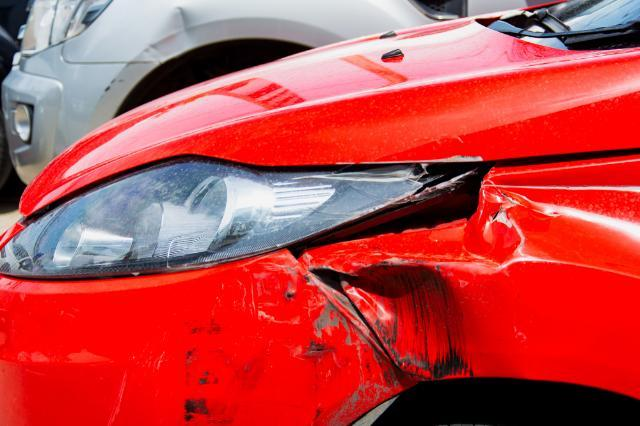dent: (308, 180, 528, 379), (147, 6, 193, 59)
lamp broken: (0, 157, 482, 280)
scratch: (176, 248, 401, 426)
